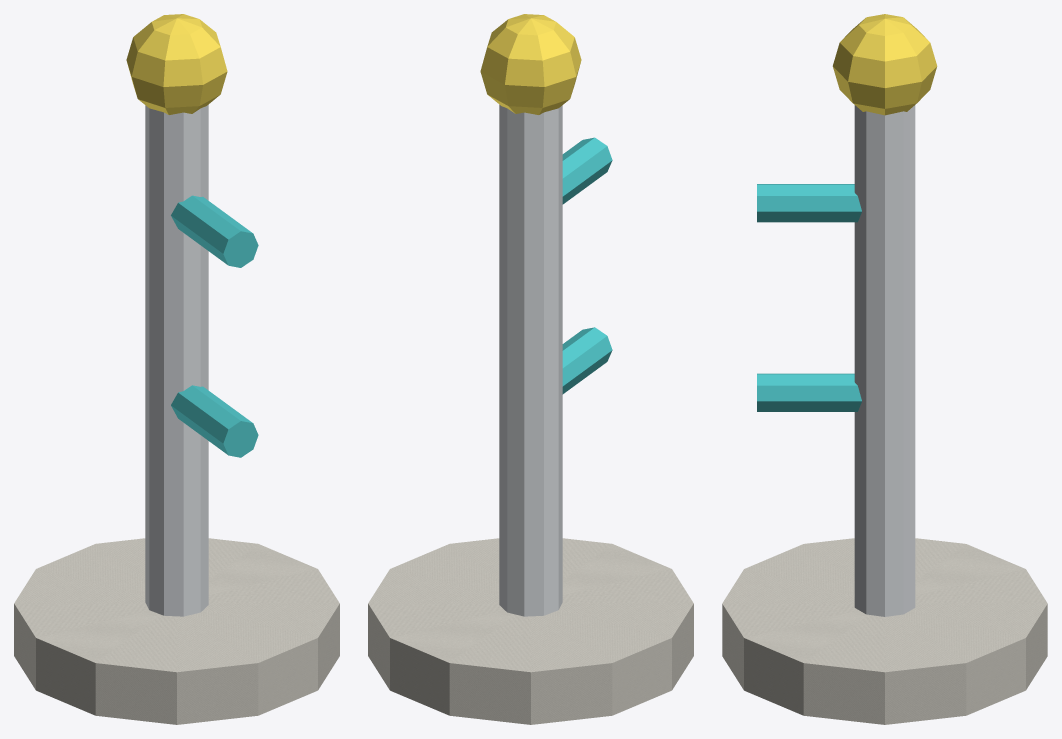
Rendered from theme-park-rides-and-coasters-theme-park-rides-and-coa-3411bee2__28668.glb.
3 renders of one model, left to right at view 1: azimuth 30°, elevation 25°; view 2: azimuth 150°, elevation 25°; view 3: azimuth 270°, elevation 25°, orthographic.
Parts seen in each view (by area): view 1: theme-park-rides-and-coasters-queue-rail-end-post; view 2: theme-park-rides-and-coasters-queue-rail-end-post; view 3: theme-park-rides-and-coasters-queue-rail-end-post.
Boxes of the visible parts, bbox=[...] form: theme-park-rides-and-coasters-queue-rail-end-post: bbox=[14, 14, 339, 724]; theme-park-rides-and-coasters-queue-rail-end-post: bbox=[368, 14, 693, 724]; theme-park-rides-and-coasters-queue-rail-end-post: bbox=[722, 14, 1047, 724].
Size of the model in its own units: 0.56 by 1.21 by 0.56.
4 materials, 1 textured.
